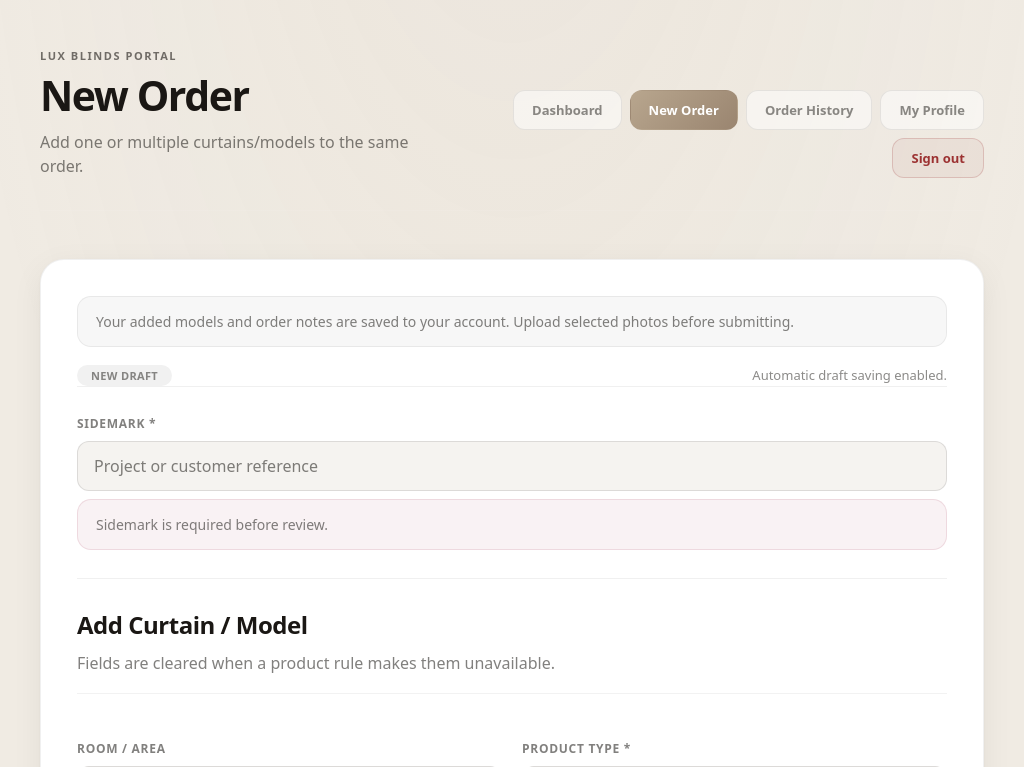
it: does not display saved when autosave fails
The image size is (1024, 767).
Type "Actual project" into the field labelled "Sidemark *". click: point(512, 466)
box: x1=77 y1=441 x2=947 y2=491
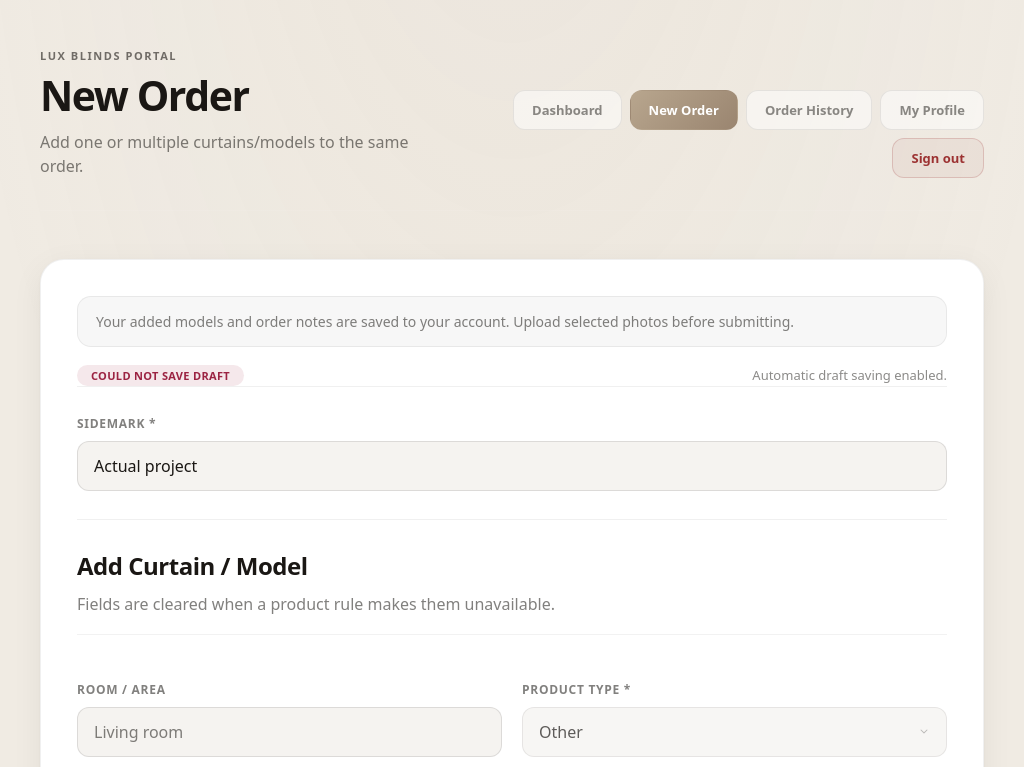
Expected: the text "Could not save draft" is shown, x1=77 y1=365 x2=244 y2=386
